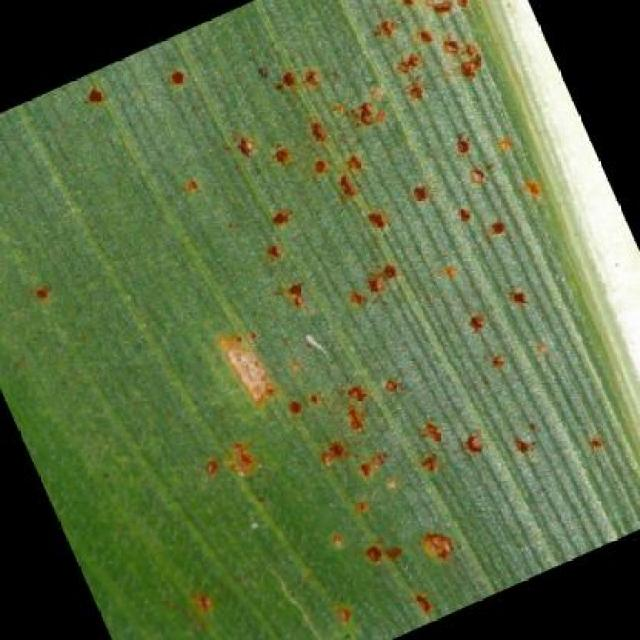Corn_Rust: (100, 69, 549, 571)
